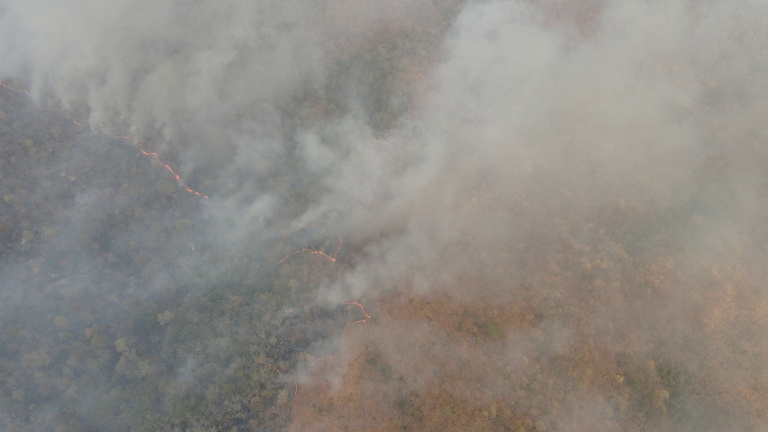fire: (1, 81, 141, 141), (136, 139, 211, 210), (328, 289, 380, 353), (265, 233, 344, 275), (279, 356, 316, 423)
smoke: (311, 1, 732, 355), (2, 2, 344, 226)
